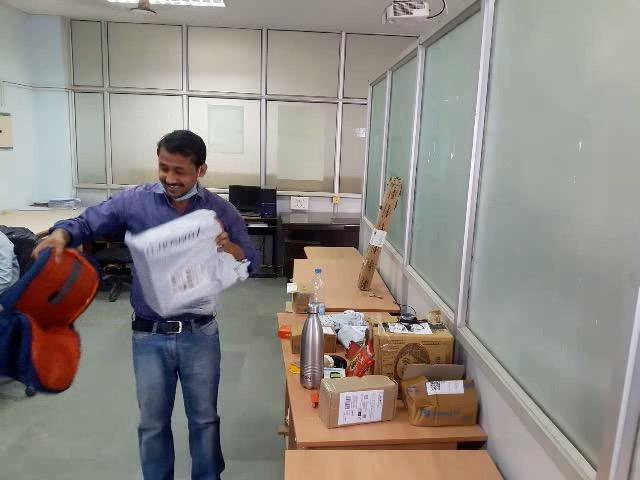shoplifting: (0, 193, 281, 472)
